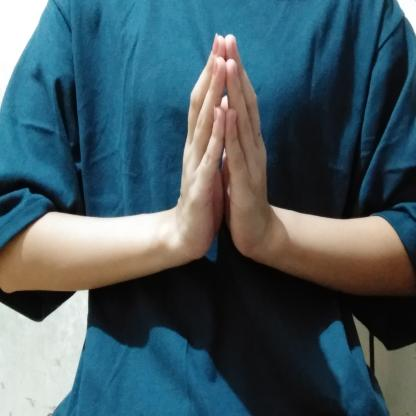sorry: (161, 24, 288, 284)
